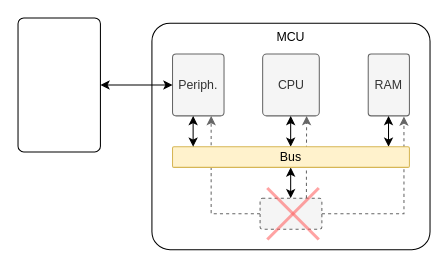
Image size: 448x268. Some labels were removed from this diagram. The shapes that lost their labels are listed below. From the top down, each one's centre as x and y in pixels, then its label:
point (58, 84): Computer
point (290, 213): Debug
